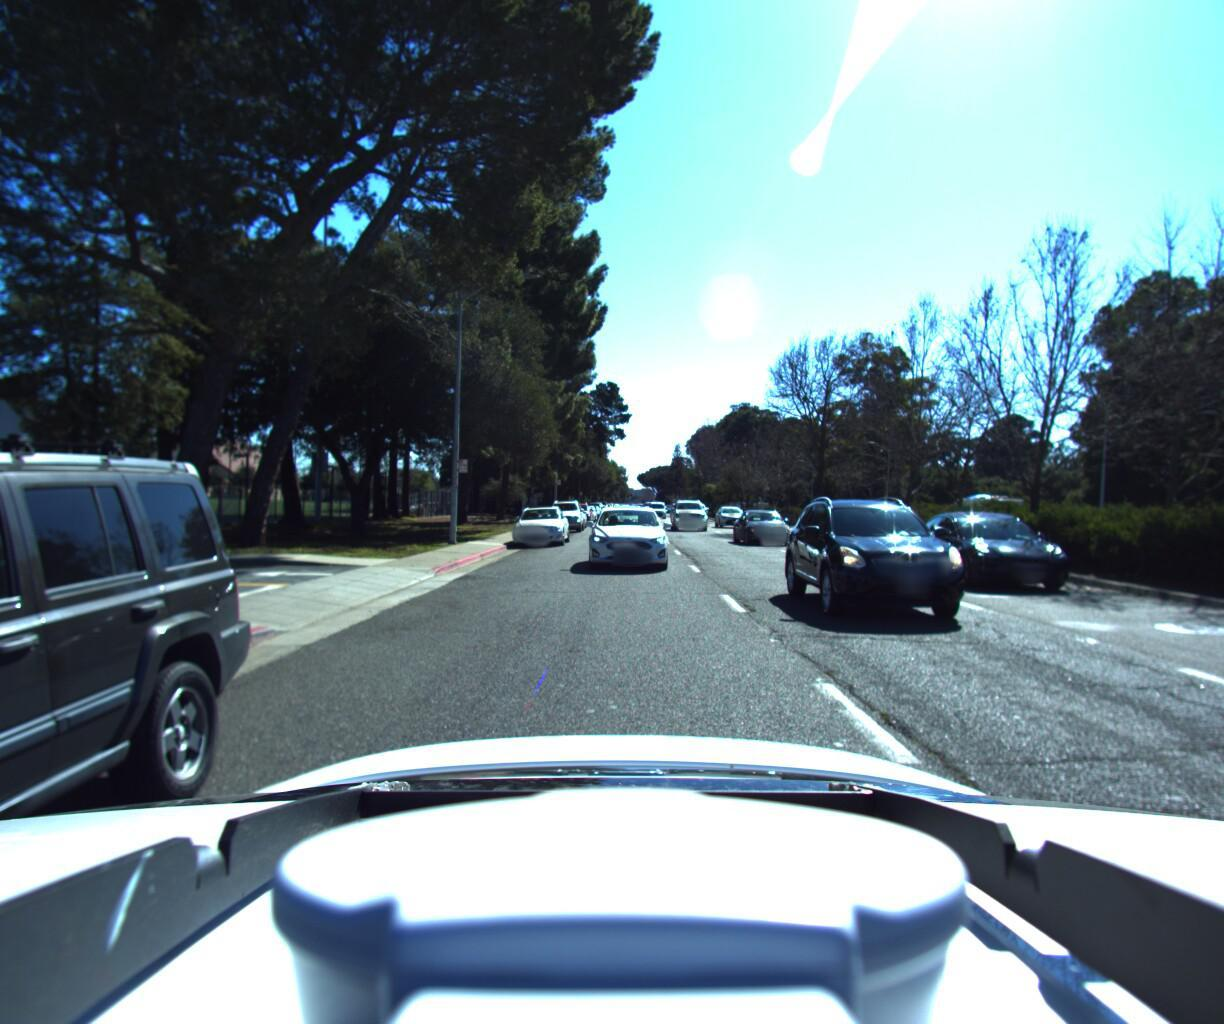car: (0, 89, 276, 1024), (793, 488, 1045, 648), (914, 514, 1101, 599), (579, 501, 667, 574), (732, 507, 804, 547), (506, 502, 568, 546), (668, 496, 713, 532), (541, 498, 583, 532), (713, 505, 750, 530), (647, 500, 668, 519)
other_vehicle: (943, 491, 1033, 542)
